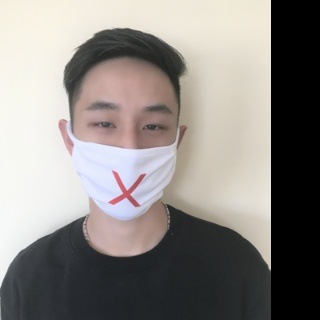with_mask: (72, 98, 179, 221)
